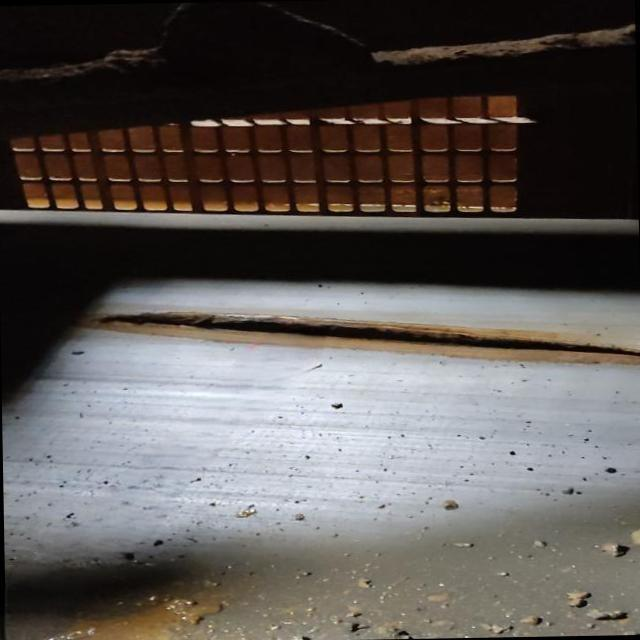Tear: (88, 290, 640, 380)
